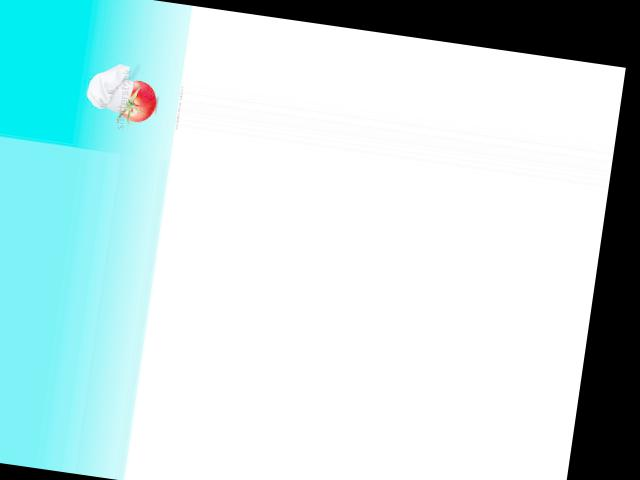tomato: (118, 78, 158, 123)
